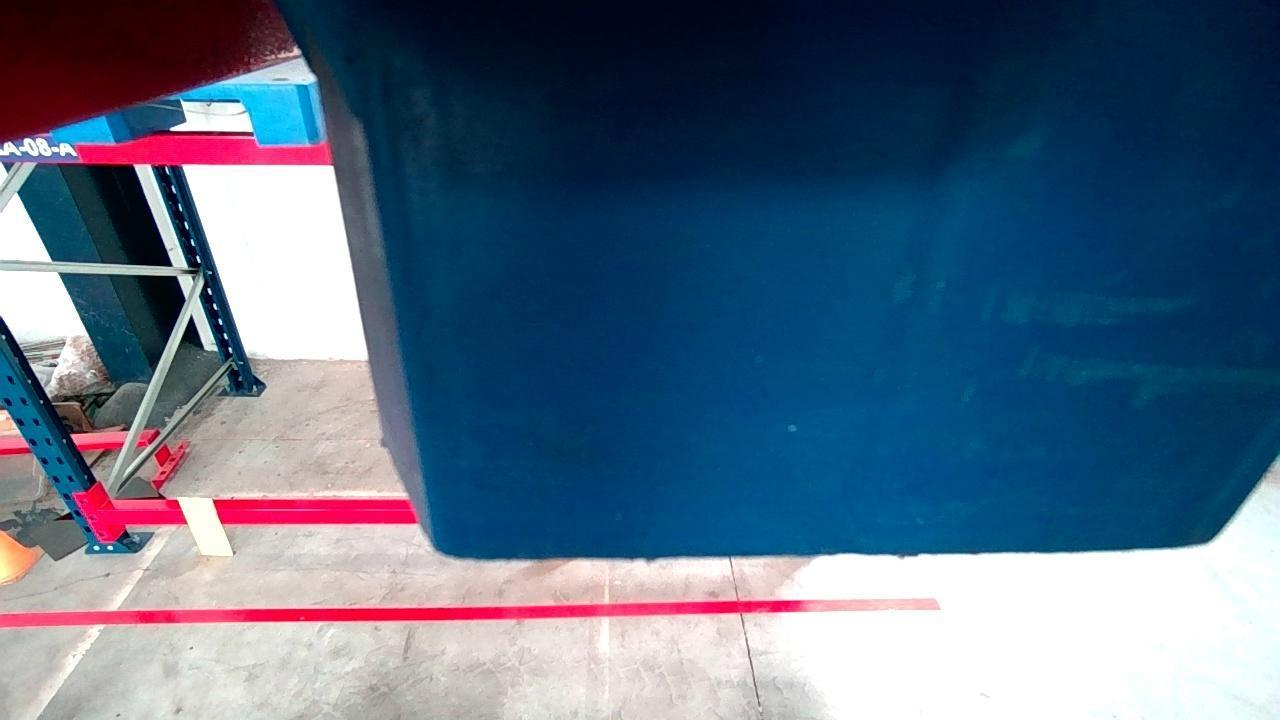h_rack: (0, 136, 332, 164), (97, 509, 418, 526)
orange_strip: (175, 497, 233, 556)
red_line: (6, 596, 939, 626)
small_pallet: (0, 82, 317, 147)
